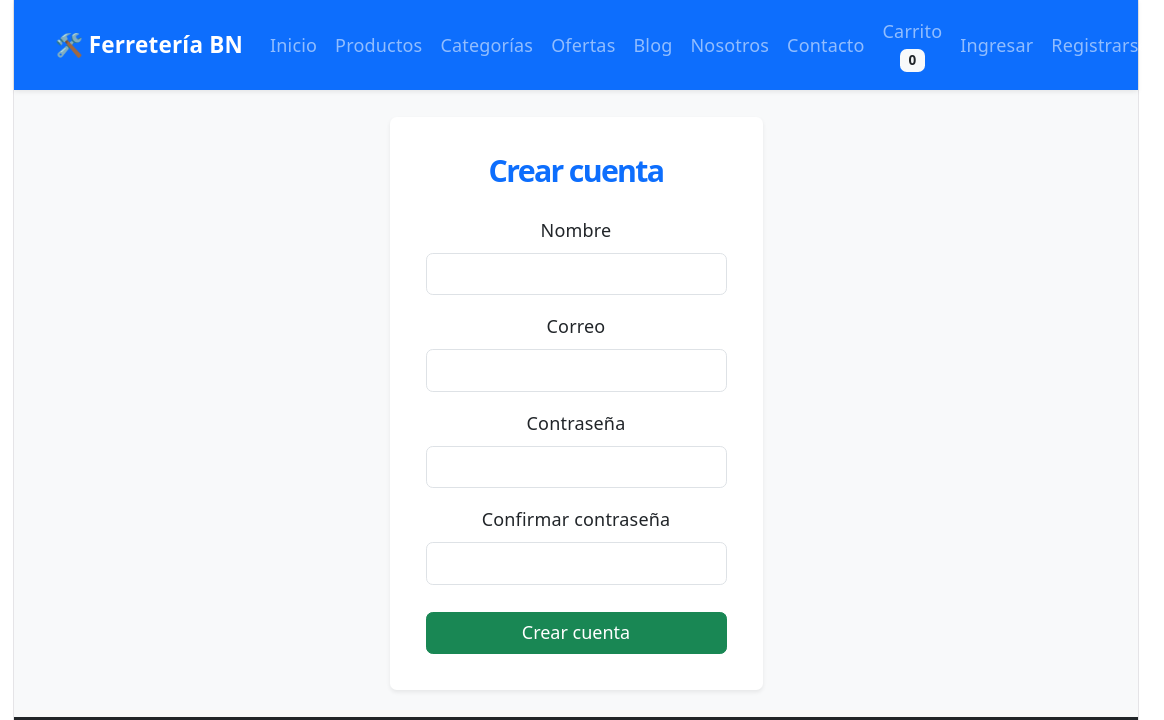
Scenario: Registro (página) › avisa si las contraseñas no coinciden
Type "Gabo" into the field labelled "Nombre" at (576, 274), box [426,253,726,295]
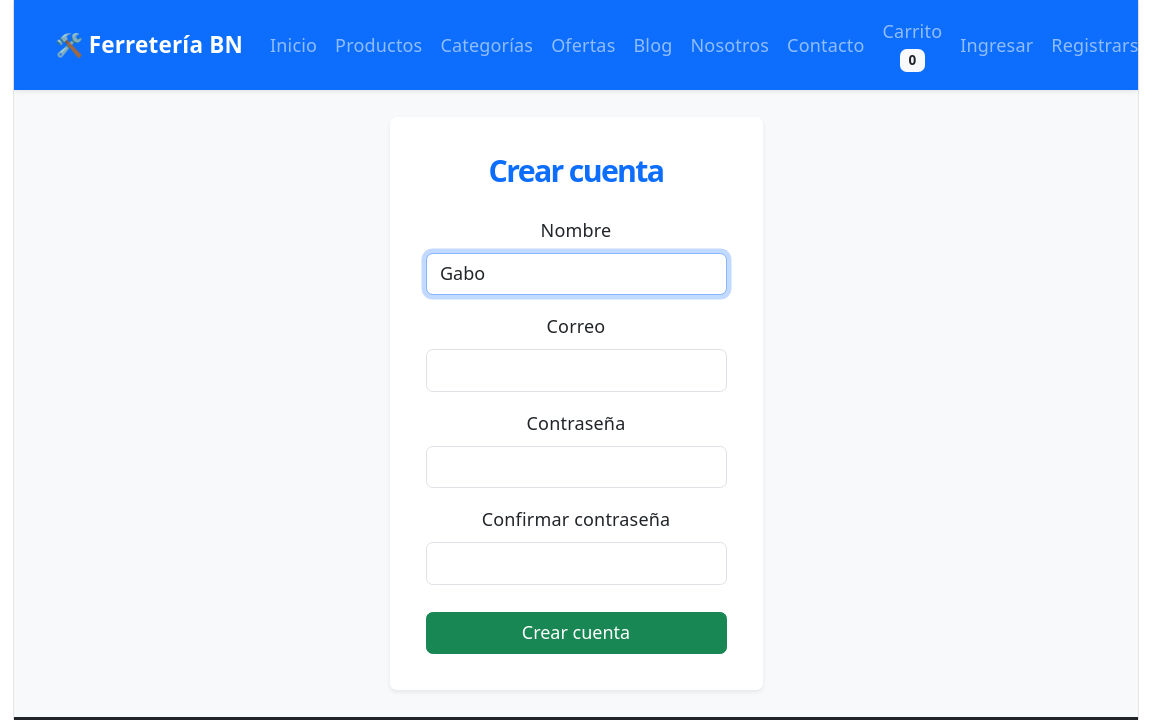
Type "gabo@correo.cl" into the field labelled "Correo" at (576, 370), box [426,349,726,392]
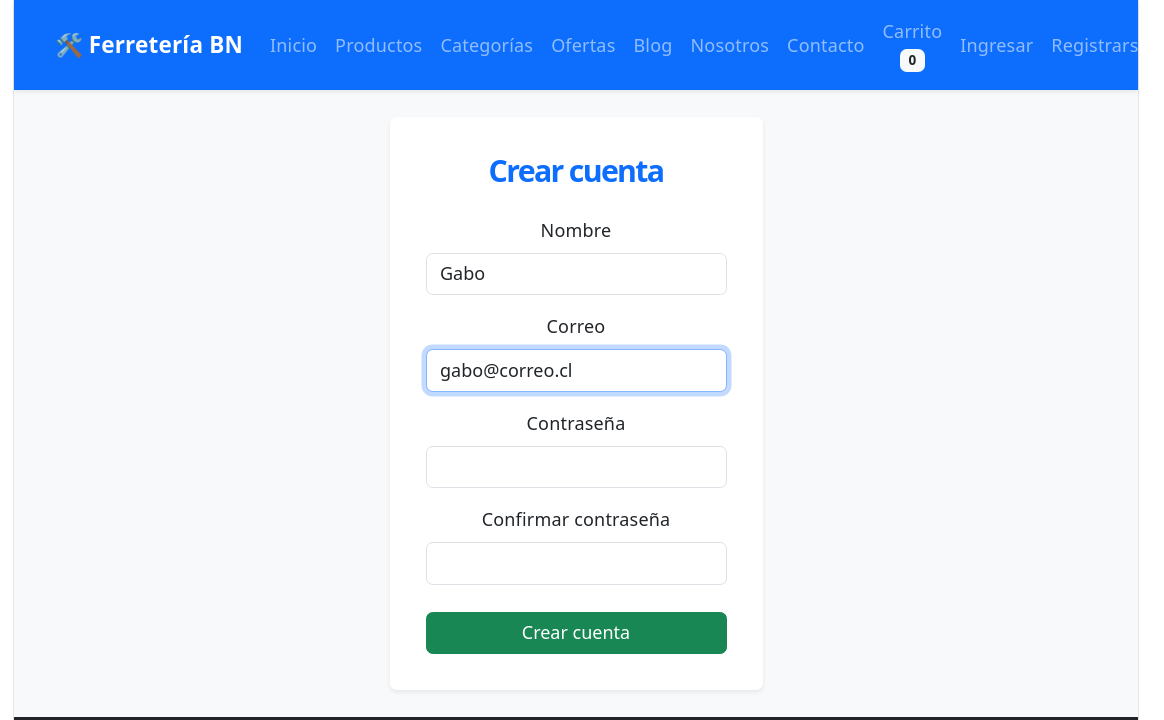
Type "123456" into the password field labelled "Contraseña" at (576, 467), box [426,446,726,488]
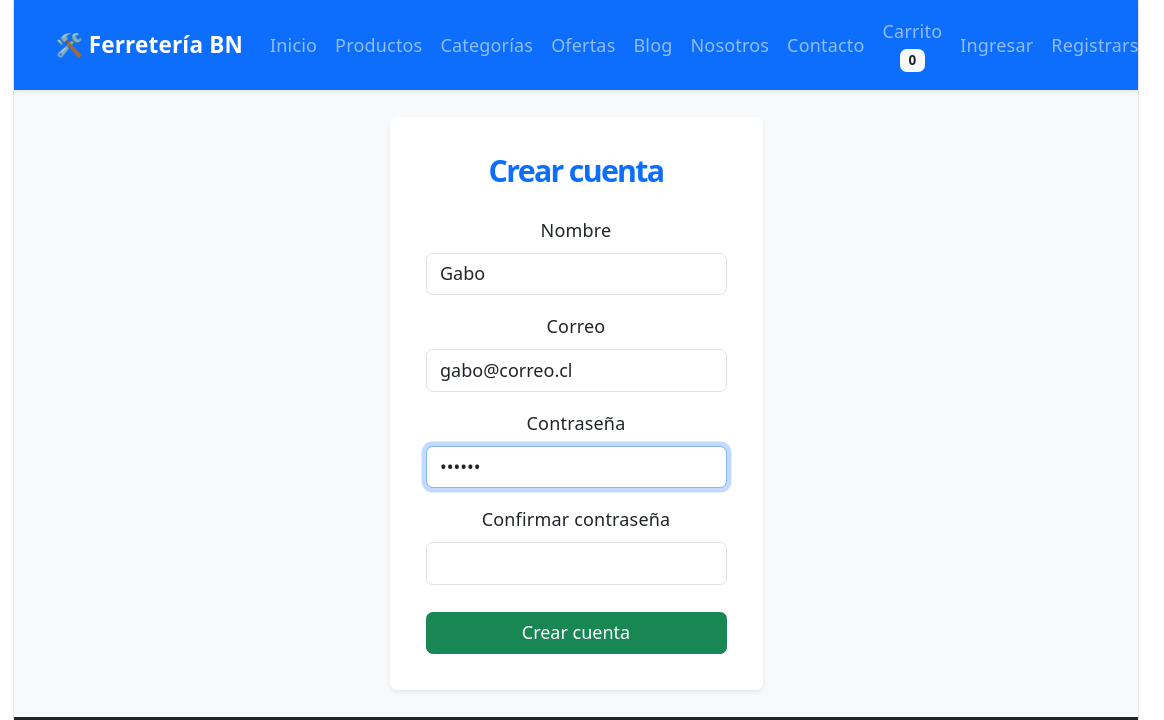
Type "654321" into the password field labelled "Confirmar contraseña" at (576, 563), box [426,542,726,585]
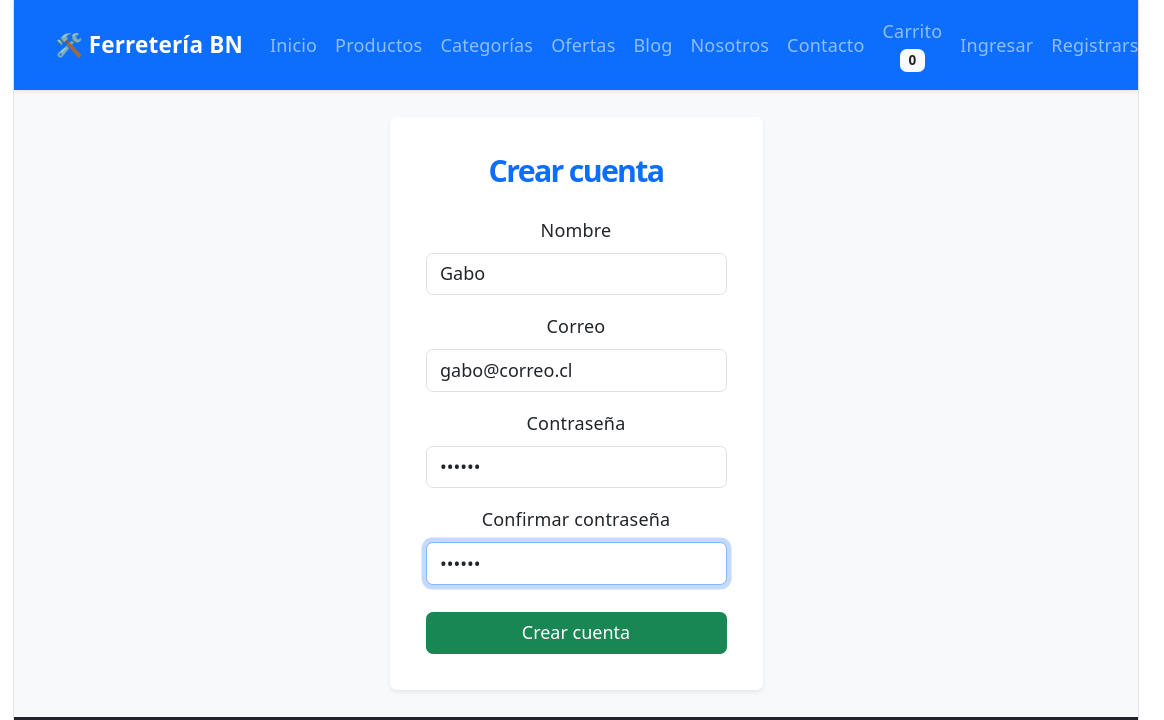
Click the button "Crear cuenta" at (576, 633), box [426,612,726,654]
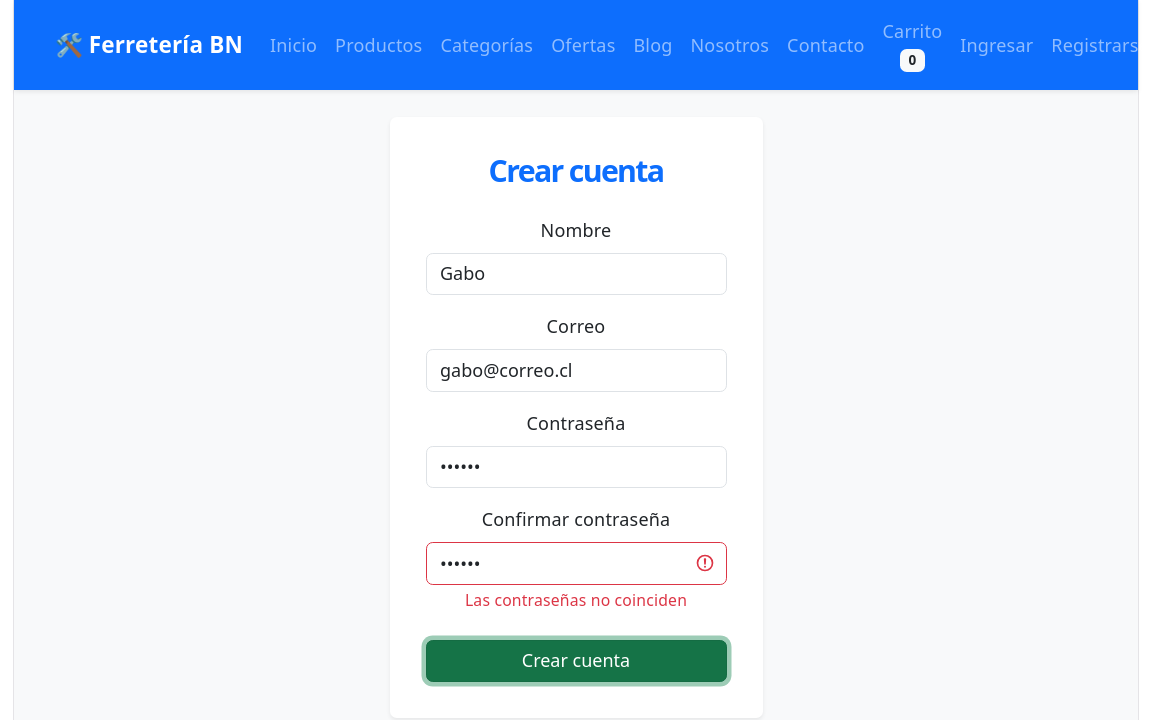
Expected: the text "Las contraseñas no coinciden" is shown, [465,589,687,611]
